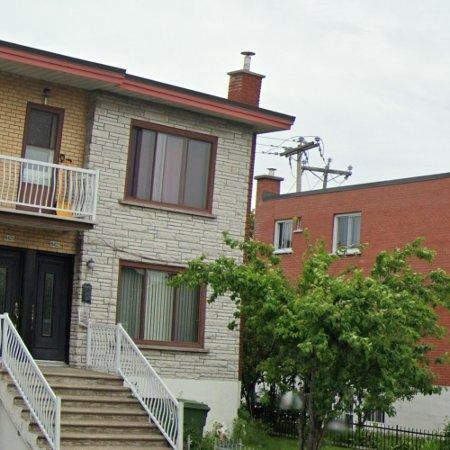chimneys: (228, 51, 266, 107), (255, 168, 284, 210)
